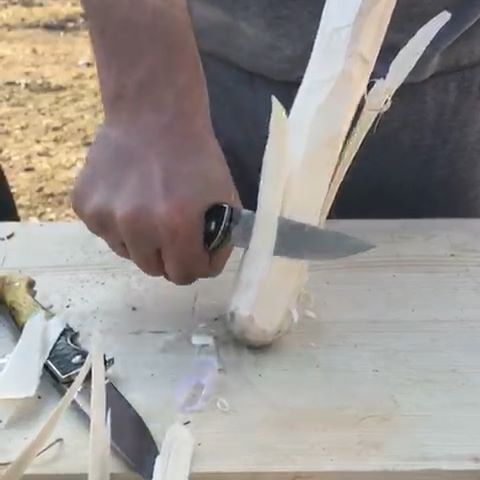knife: (1, 273, 159, 479), (204, 204, 376, 261)
